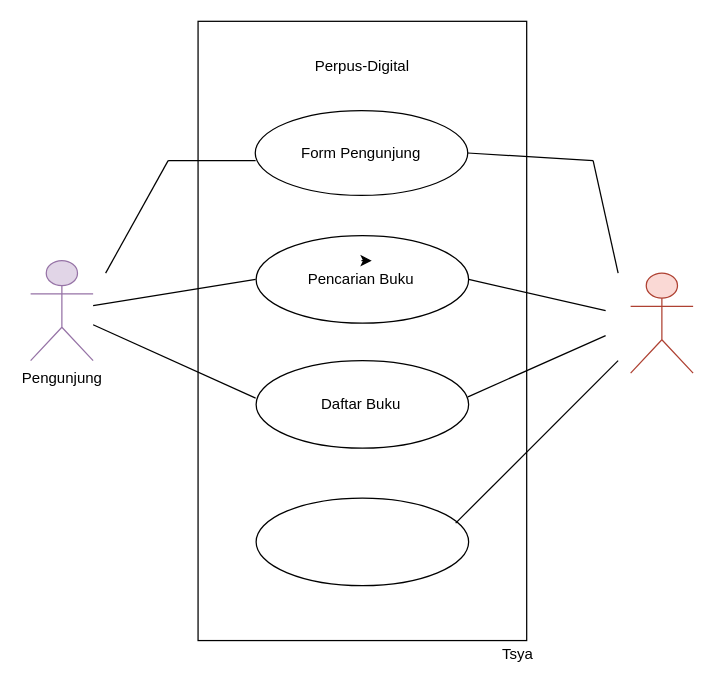
Some shapes in this 724 by 695 pixel diagram are drawn without their labels. The shapes that lost their labels are listed below. From the top down, each one's centre as x and y in pixels, then its label:
At (x=661, y=322): "Pustakawan".
At (x=362, y=541): "Laporan Statistik".
